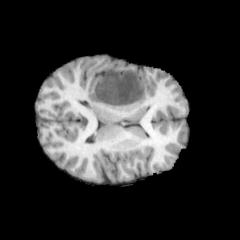glioma: (87, 69, 145, 107)
